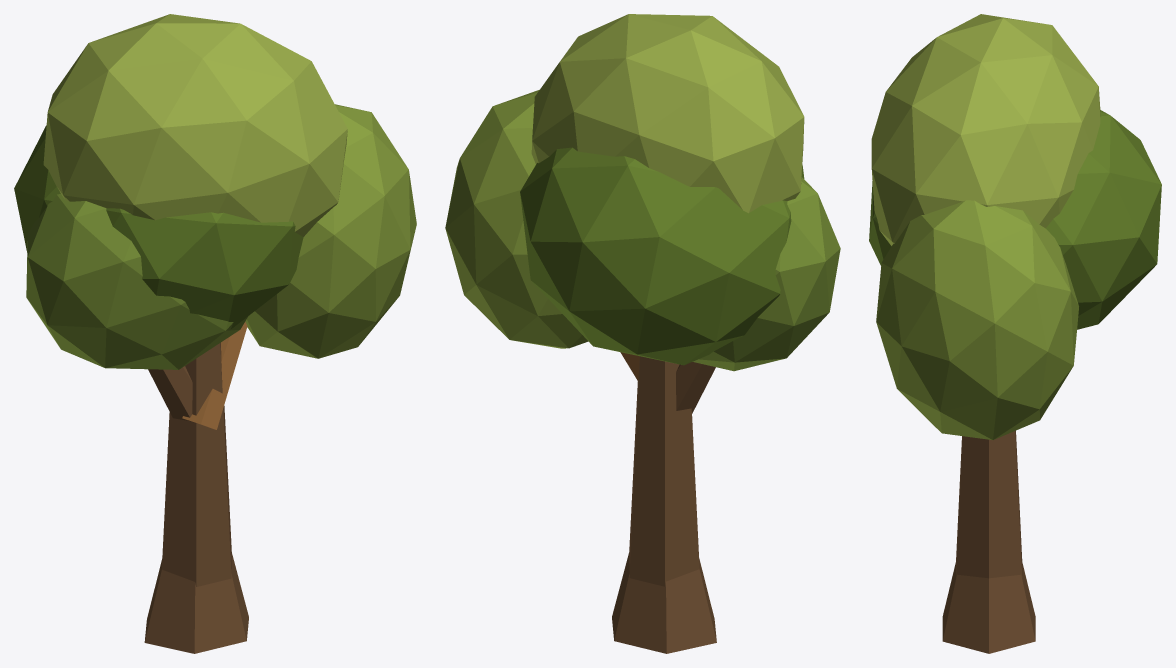
Rendered from tree-canopy-2.gltf.
The picture shows the model from 3 angles, left to right: view 1: azimuth 30°, elevation 25°; view 2: azimuth 150°, elevation 25°; view 3: azimuth 270°, elevation 25°; orthographic projection. The views are drawn at different scales.
Visible parts, largest first — view 1: tree-canopy-2; view 2: tree-canopy-2; view 3: tree-canopy-2.
Part boxes in pixels (<box>): tree-canopy-2: <box>14,14,416,653</box>; tree-canopy-2: <box>445,14,840,653</box>; tree-canopy-2: <box>869,14,1161,653</box>.
Size of the model in its own units: 1.08 by 1.7 by 0.76.
